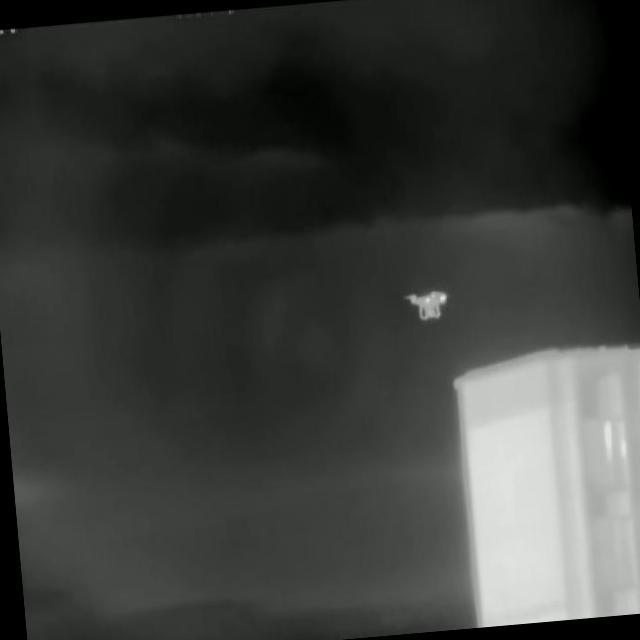DRONE: (406, 286, 452, 321)
